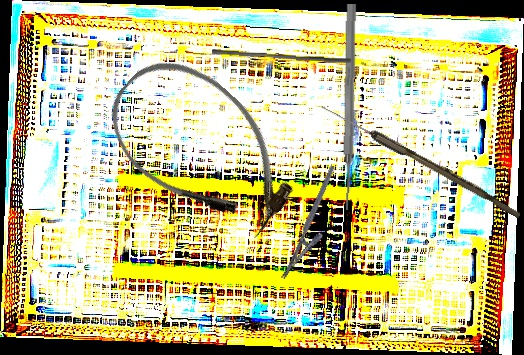Cannula: (89, 37, 316, 259)
Needle Holder: (279, 164, 352, 287)
Pusher: (340, 3, 358, 211), (211, 48, 352, 64)
Surgical Spoon: (318, 102, 524, 219)
